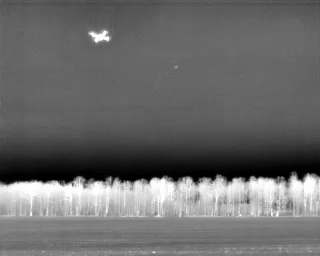DRONE: (85, 25, 115, 48)
